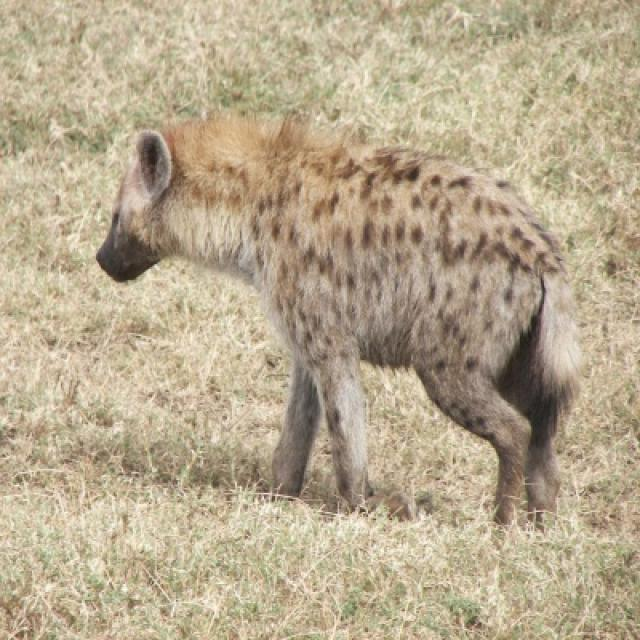hyena: (94, 115, 586, 530)
